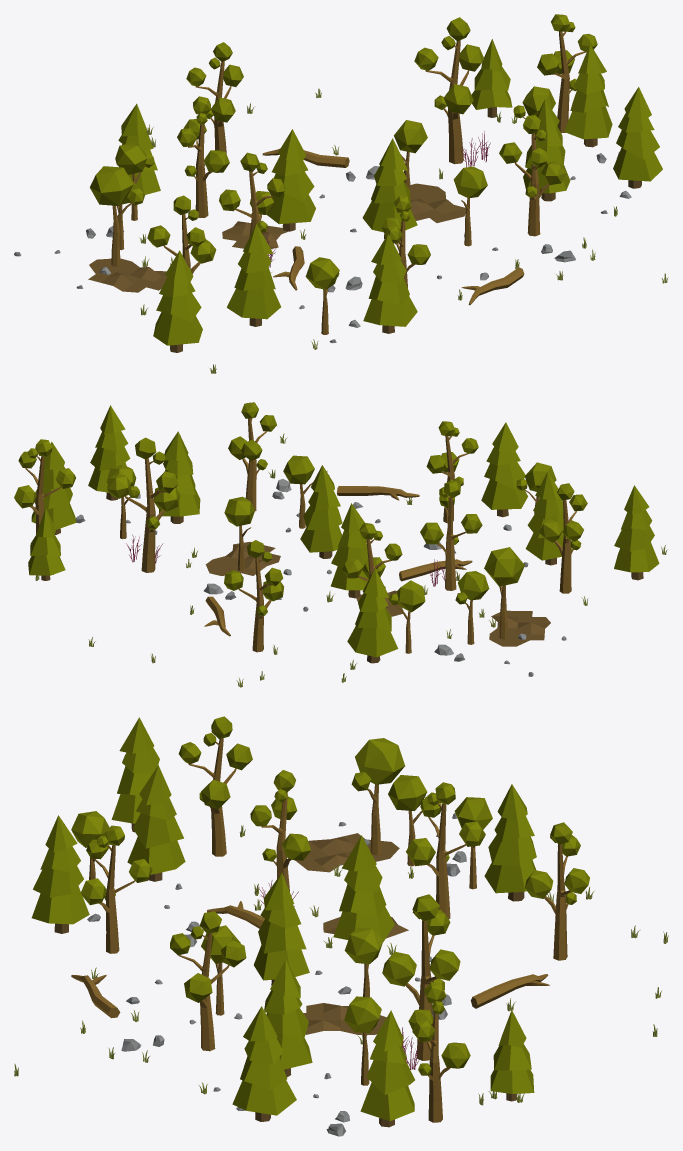
Rendered from postcontact trees.gltf.
3 renders of one model, top to bottom at view 1: azimuth 30°, elevation 25°; view 2: azimuth 150°, elevation 25°; view 3: azimuth 270°, elevation 25°, orthographic. The views are drawn at different scales.
Parts seen in each view (by area): view 1: postcontact trees; view 2: postcontact trees; view 3: postcontact trees.
Boxes of the visible parts, x1,y1,x2,y2 form: postcontact trees: [14, 14, 668, 373]; postcontact trees: [14, 402, 667, 687]; postcontact trees: [14, 716, 668, 1136].
Bounding box in the file's own units: 102 × 24.17 × 88.32.
